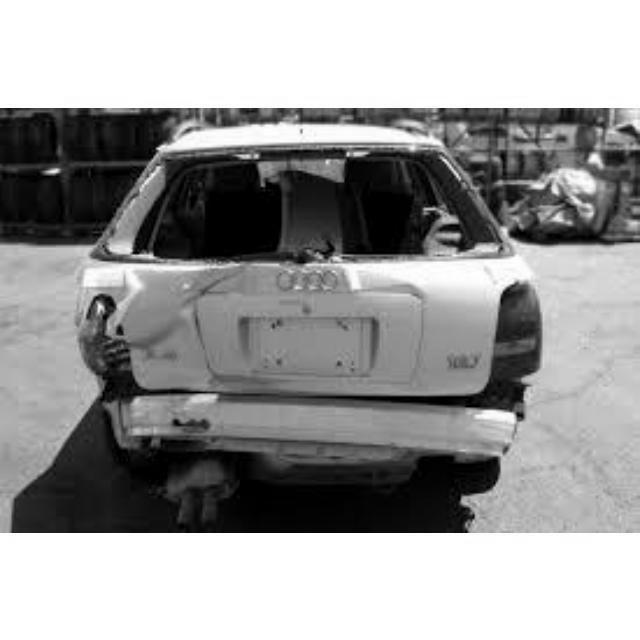Rear-windscreen-Damage: (131, 138, 484, 272)
Taillight-Damage: (73, 289, 140, 405)
boot-dent: (138, 268, 484, 405)
rear-bumper-dent: (100, 391, 484, 477)
